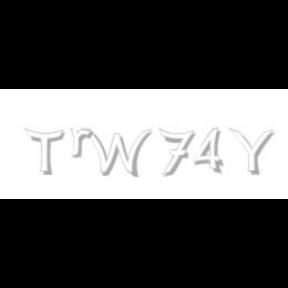4: (192, 128, 224, 174)
7: (159, 128, 196, 178)
T: (24, 128, 64, 176)
W: (80, 128, 152, 178)
Y: (228, 128, 274, 176)
r: (70, 128, 96, 158)
